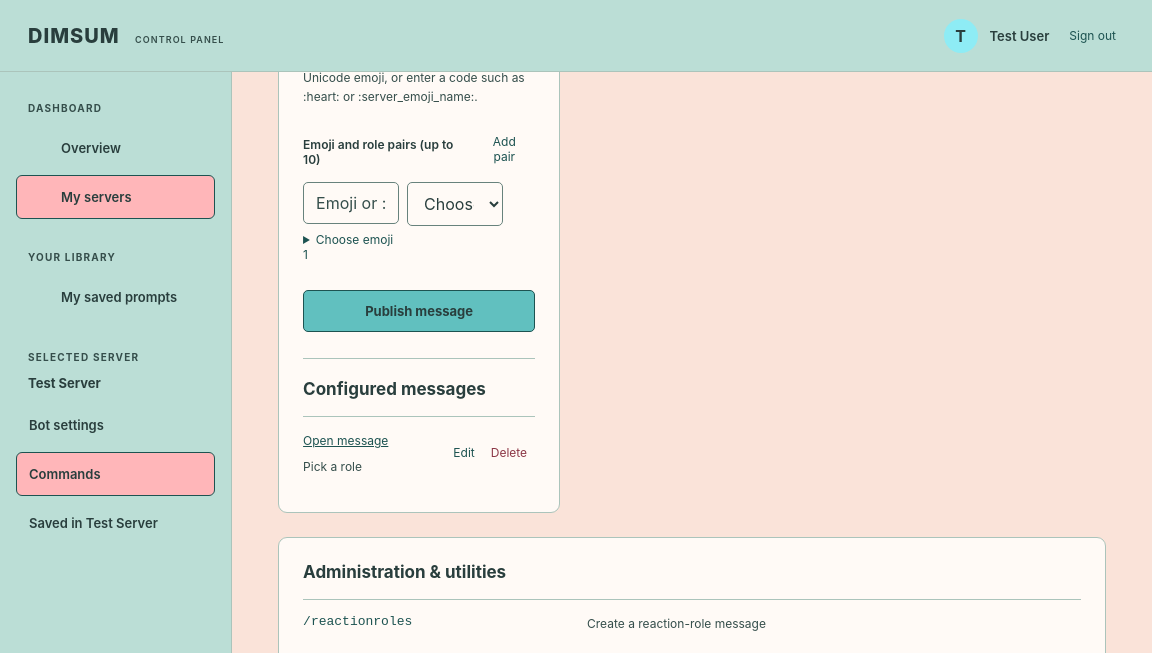
Scenario: settings search channels, pick emojis, and edit, publish, and delete configured messages
Later steps or results of the test are not shown.
(page scrolled)
Check: the heading "Configured messages" is shown, box [303,379,486,399]
Click the button "Edit": (464, 453) [445,437,483,468]
(page scrolled)
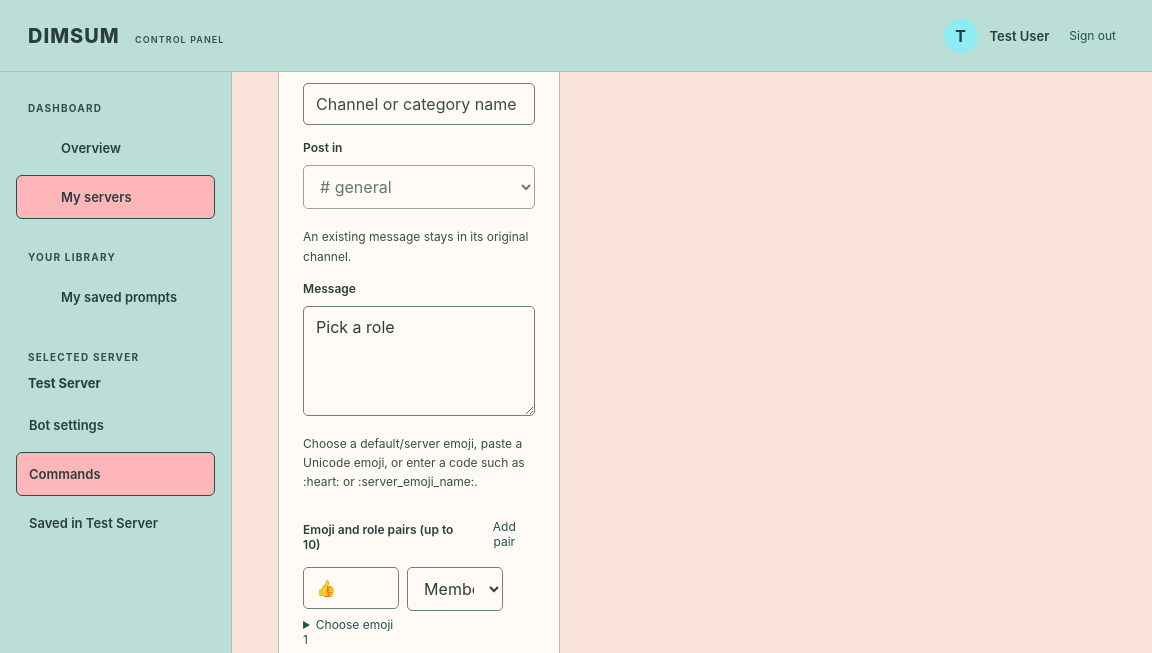
Check: the text box labelled "Message" holds "Pick a role"
Check: the dropdown labelled "Post in" is disabled, box [303,166,535,210]
Replace the text in the text box labelled "Message" with "Edited role message": (419, 361) [303,306,535,416]
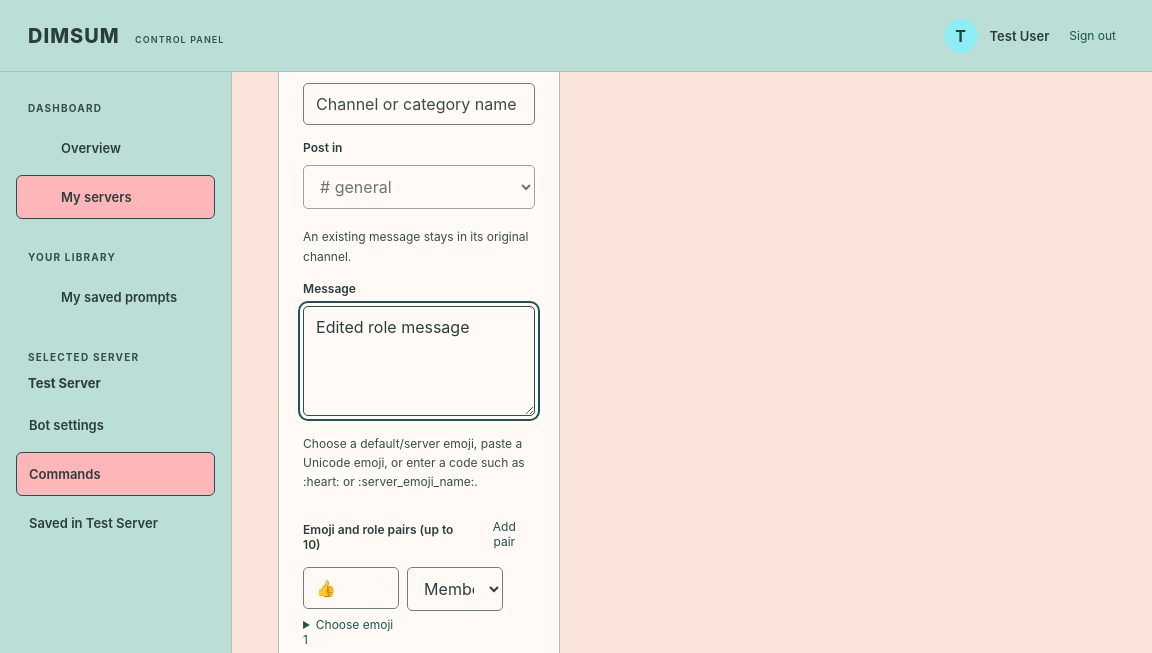
Replace the text in the field named "Emoji 1" with ":heart:": (351, 588) [303,567,399,609]
(page scrolled)
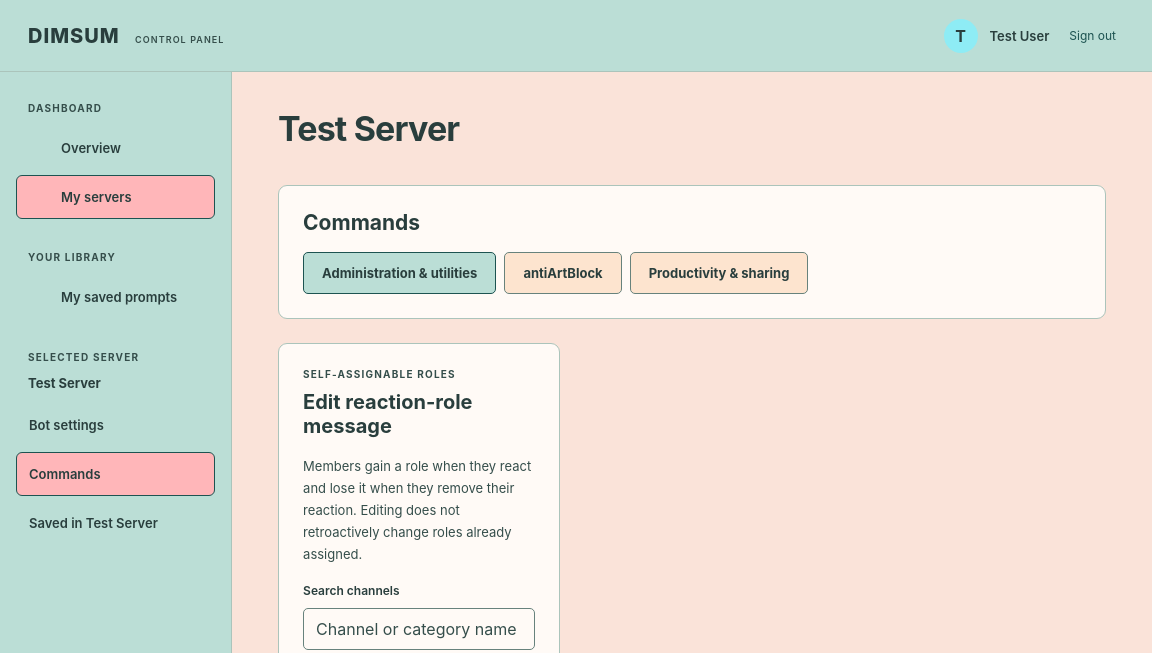
Click the tab "antiArtBlock": (563, 273) [504,252,622,294]
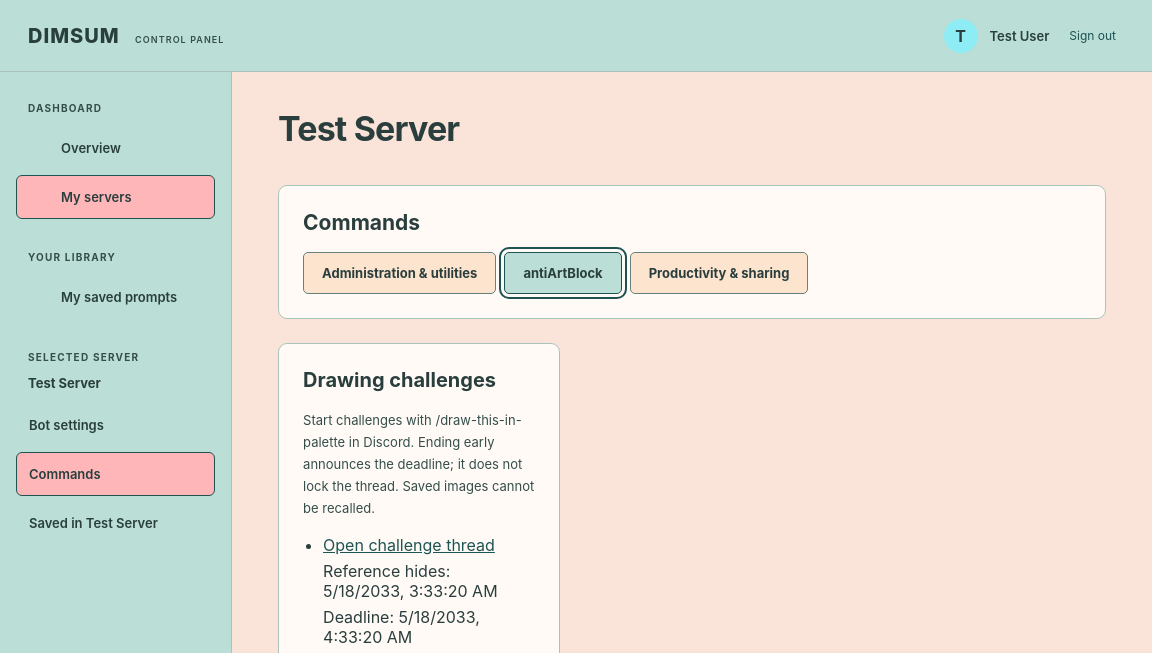
Click the tab "Administration & utilities": (400, 273) [303,252,496,294]
(page scrolled)
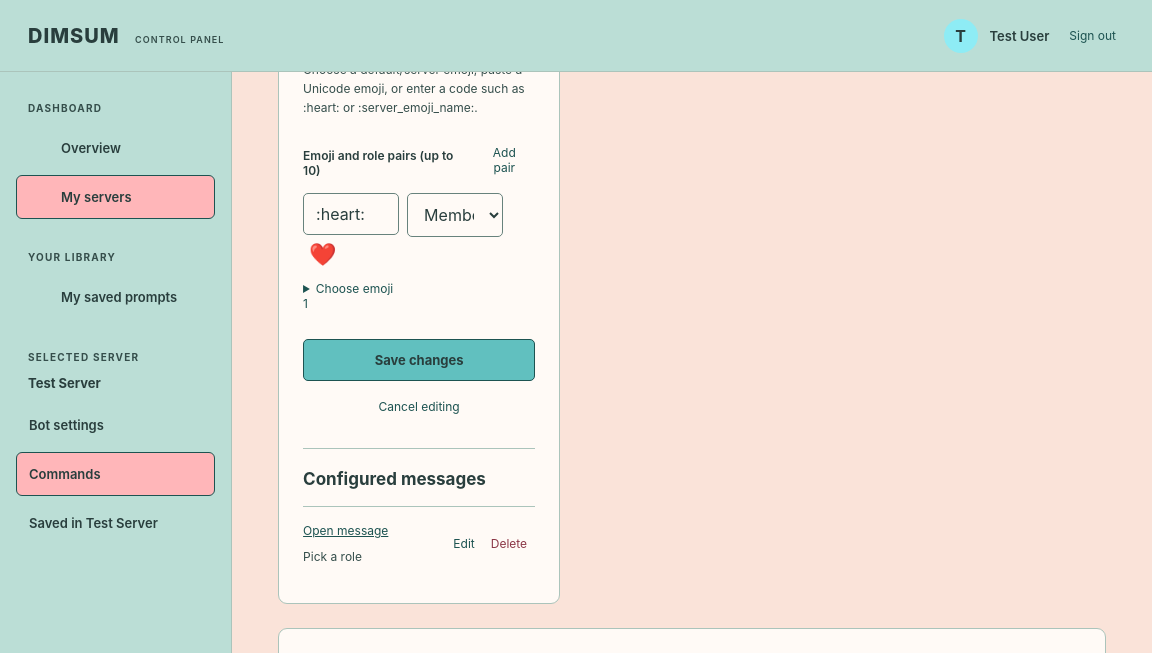
Check: the field named "Emoji 1" holds ":heart:", box [303,193,399,235]
